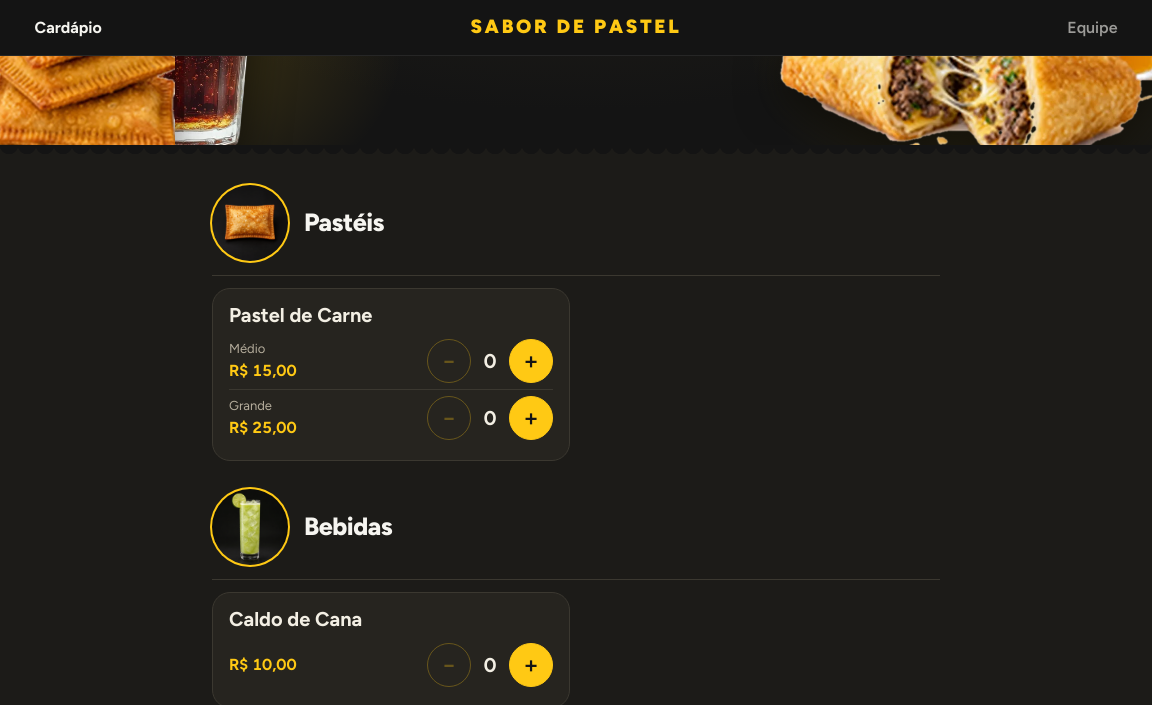
Scenario: entrega mostra campos de endereço e retirada não
(page scrolled)
Expected: the text "Pastel de Carne" is shown, [229, 303, 372, 327]
Click the button named "Aumentar Pastel de Carne M": (531, 361) [509, 339, 553, 383]
(page scrolled)
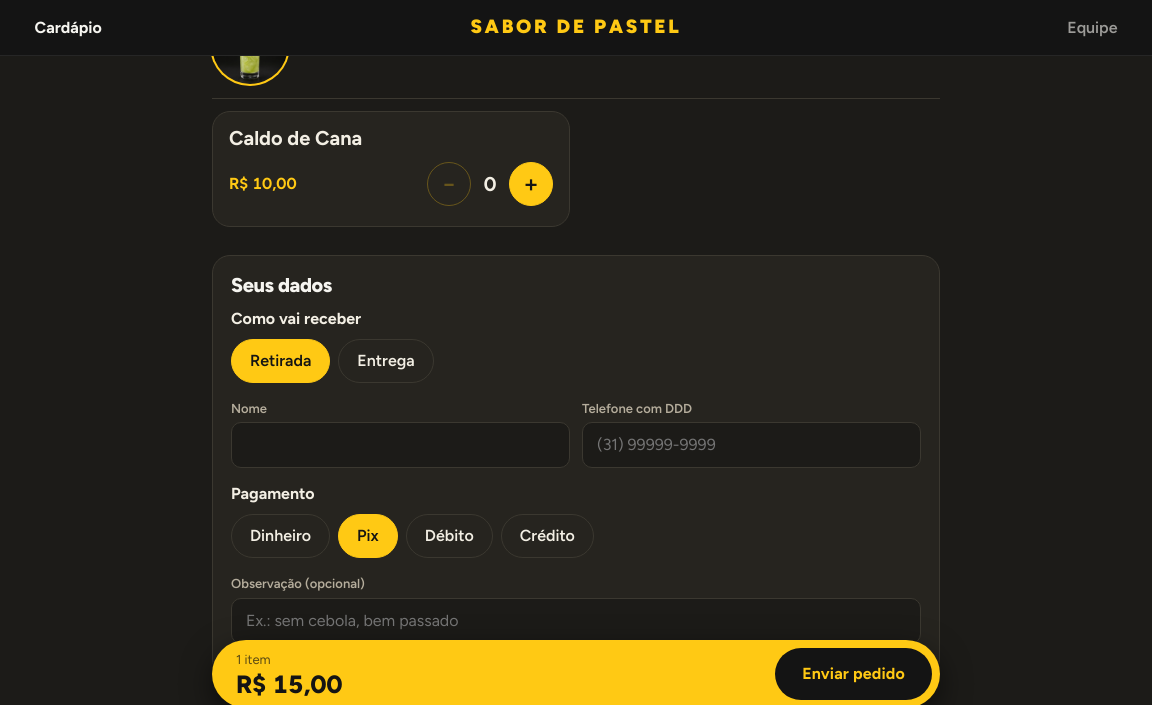
Expected: the field labelled "Rua" is not shown
Click the button "Entrega": (386, 361) [338, 339, 434, 383]
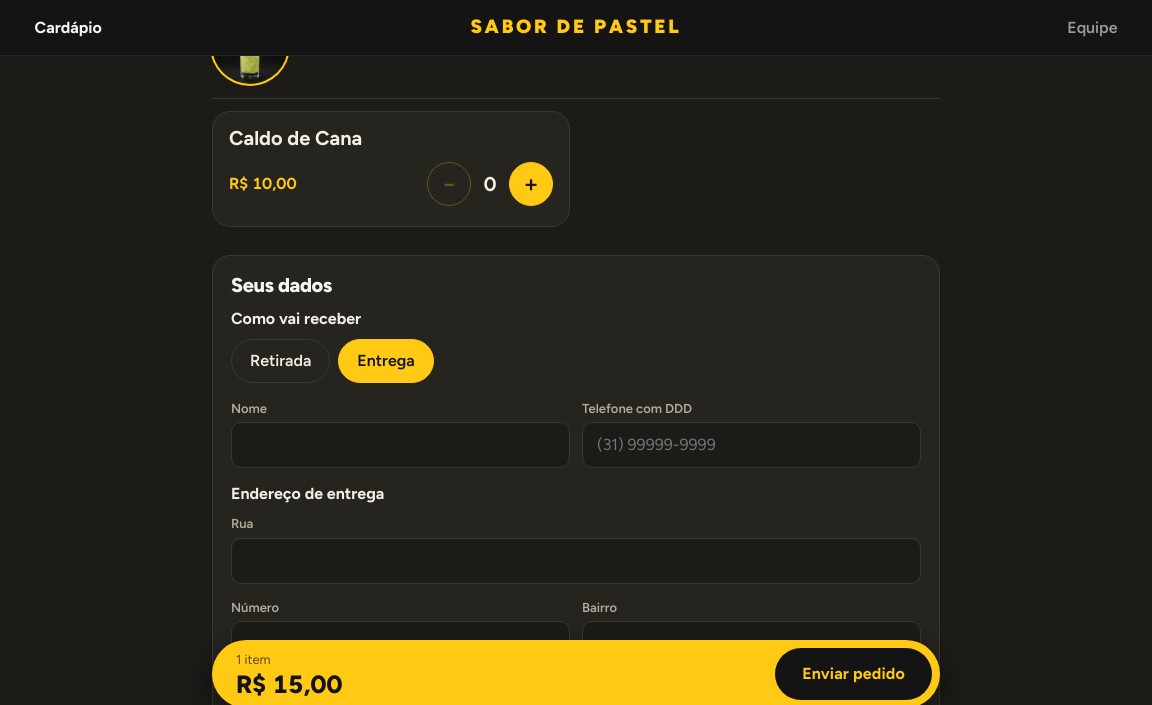
Expected: the field labelled "Rua" is shown, [231, 538, 921, 584]
Expected: the field labelled "Bairro" is shown, [582, 621, 921, 667]
